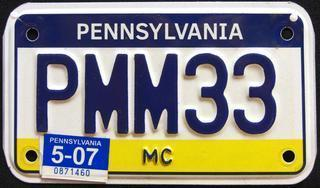placa de veiculo: (7, 3, 305, 180)
